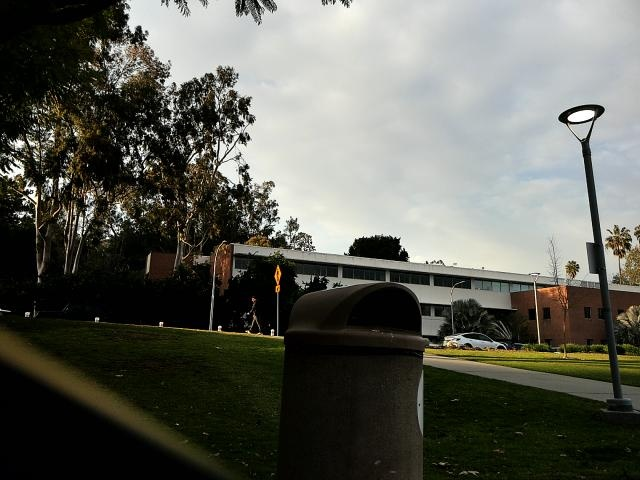trashcan: (268, 266, 439, 480)
